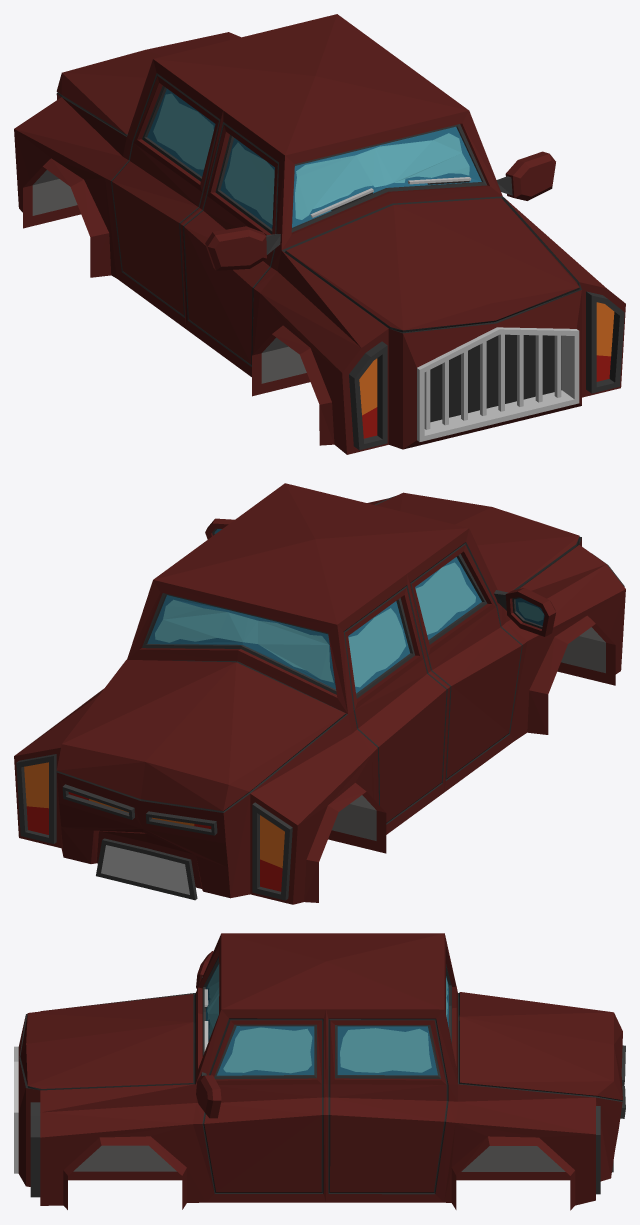
Rendered from Car_A_02.FBX.
3 views of the same model, one above another, from view 1: azimuth 30°, elevation 25°; view 2: azimuth 150°, elevation 25°; view 3: azimuth 270°, elevation 25° (orthographic). The views are drawn at different scales.
Visible parts, largest first — view 1: Car_A_02; view 2: Car_A_02; view 3: Car_A_02.
Boxes of the visible parts, bbox=[...] form: Car_A_02: bbox=[14, 14, 625, 454]; Car_A_02: bbox=[14, 483, 625, 904]; Car_A_02: bbox=[14, 933, 625, 1210].
Bounding box in the file's own units: 3.61 × 2.23 × 6.49.
